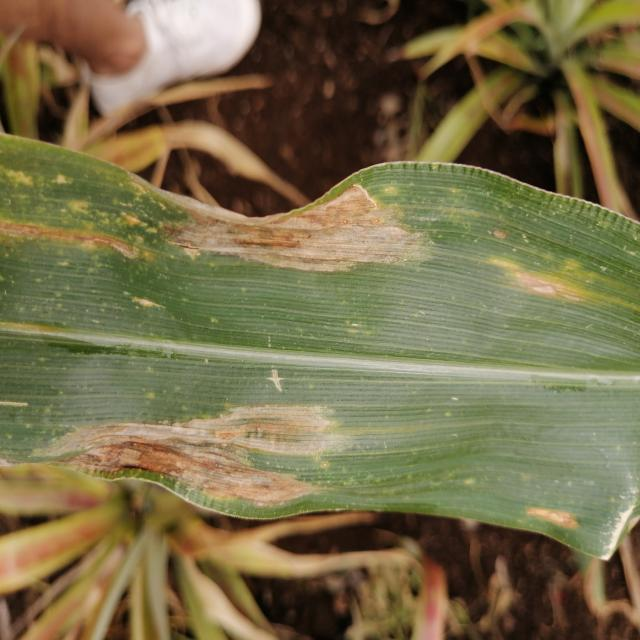Corn_Leaf_Blight: (0, 132, 640, 542)
